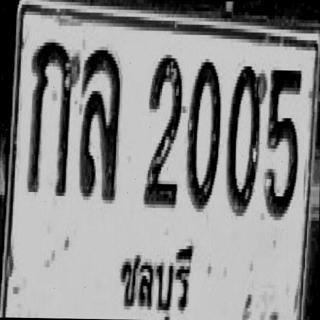A01: (27, 37, 80, 194)
A36: (79, 46, 122, 200)
N00: (225, 61, 266, 215), (185, 55, 221, 209)
N02: (142, 49, 183, 206)
N05: (264, 65, 301, 215)
P13: (113, 232, 208, 320)
